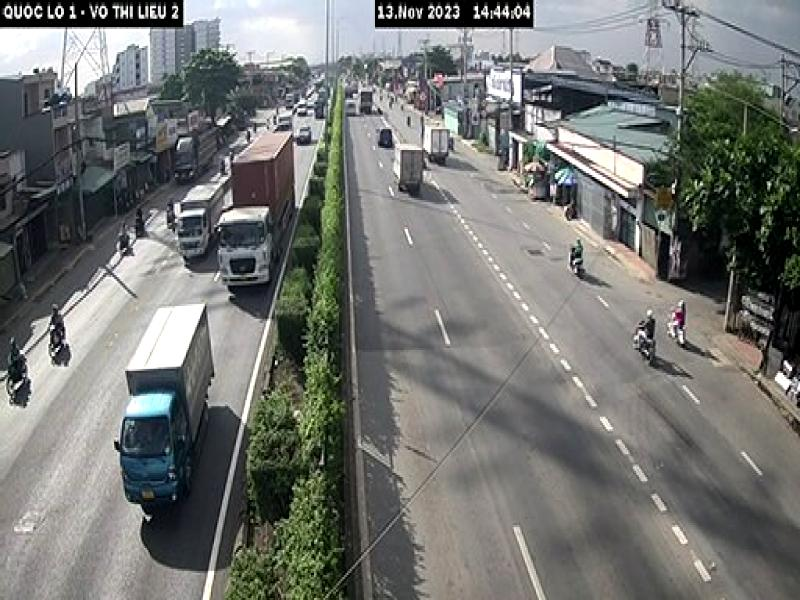truck: (107, 305, 231, 514), (221, 128, 302, 271)
